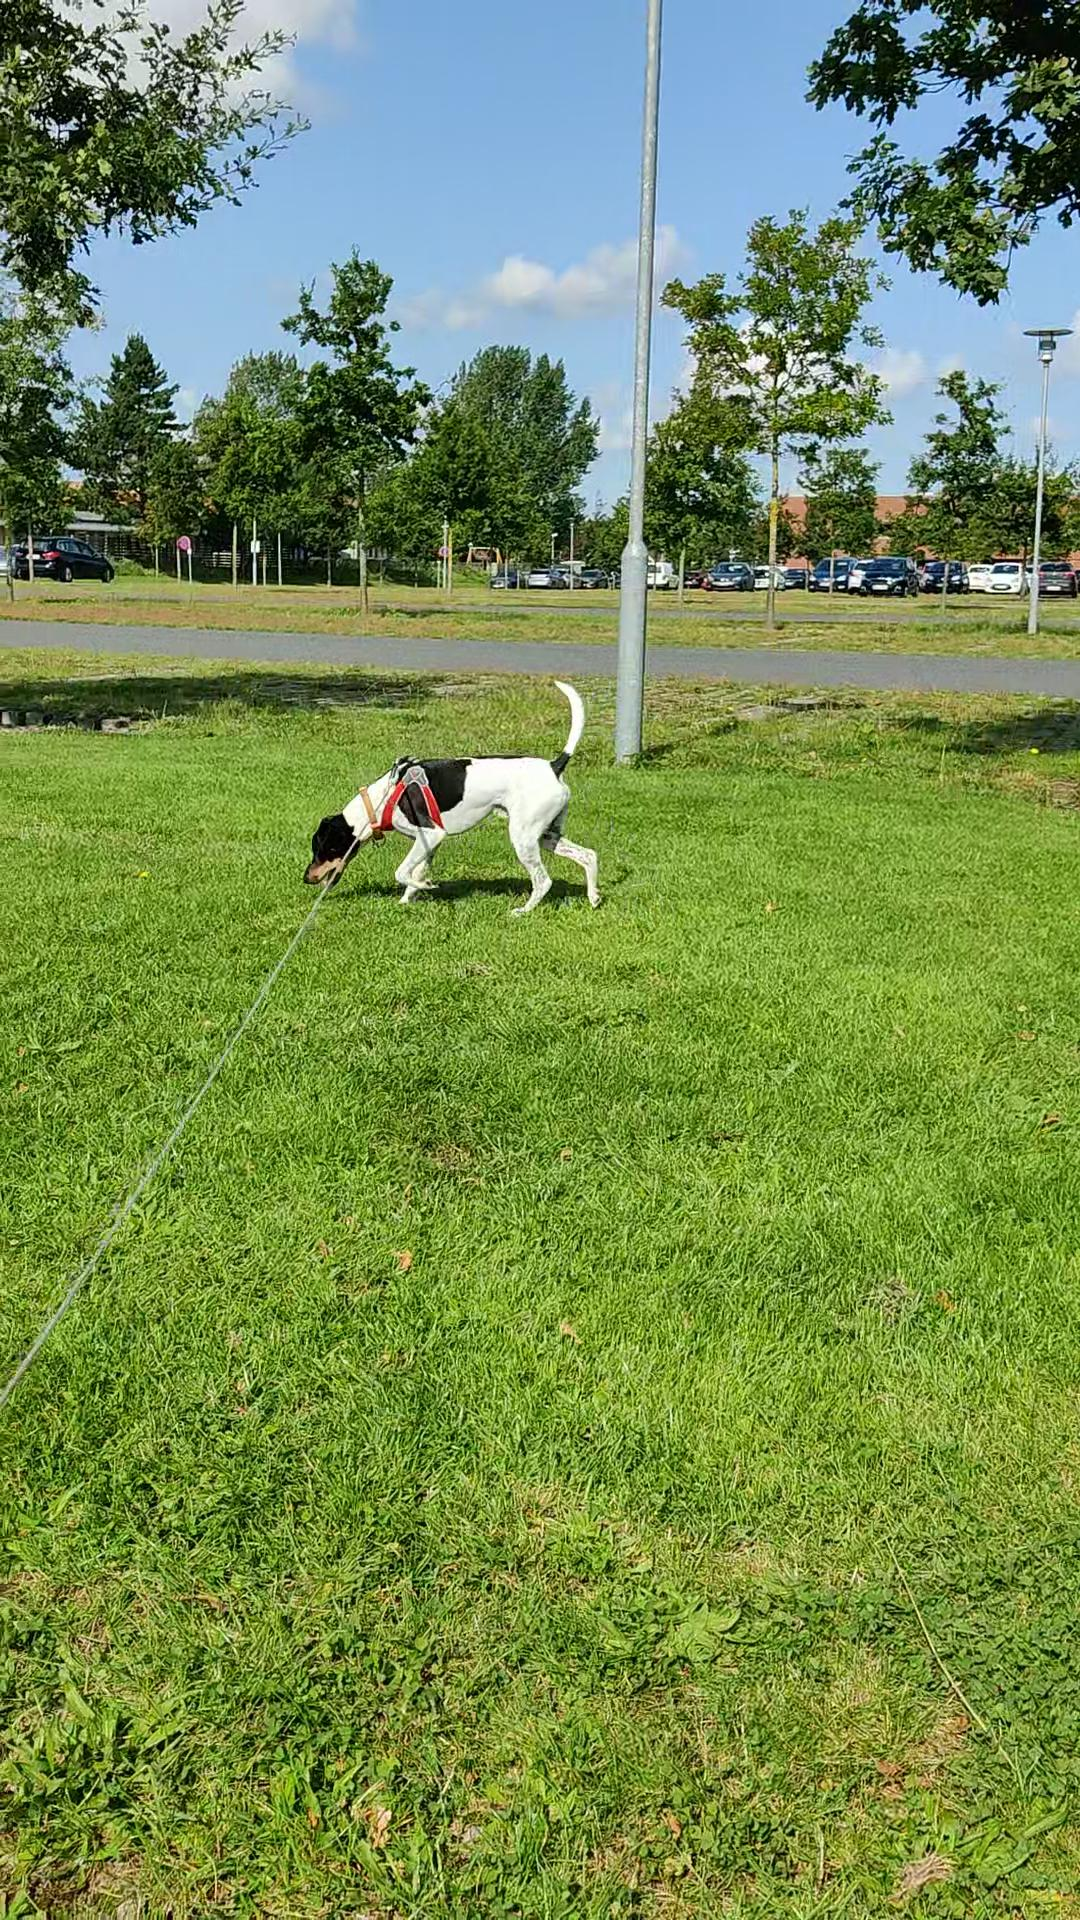Dog: (294, 676, 612, 916)
